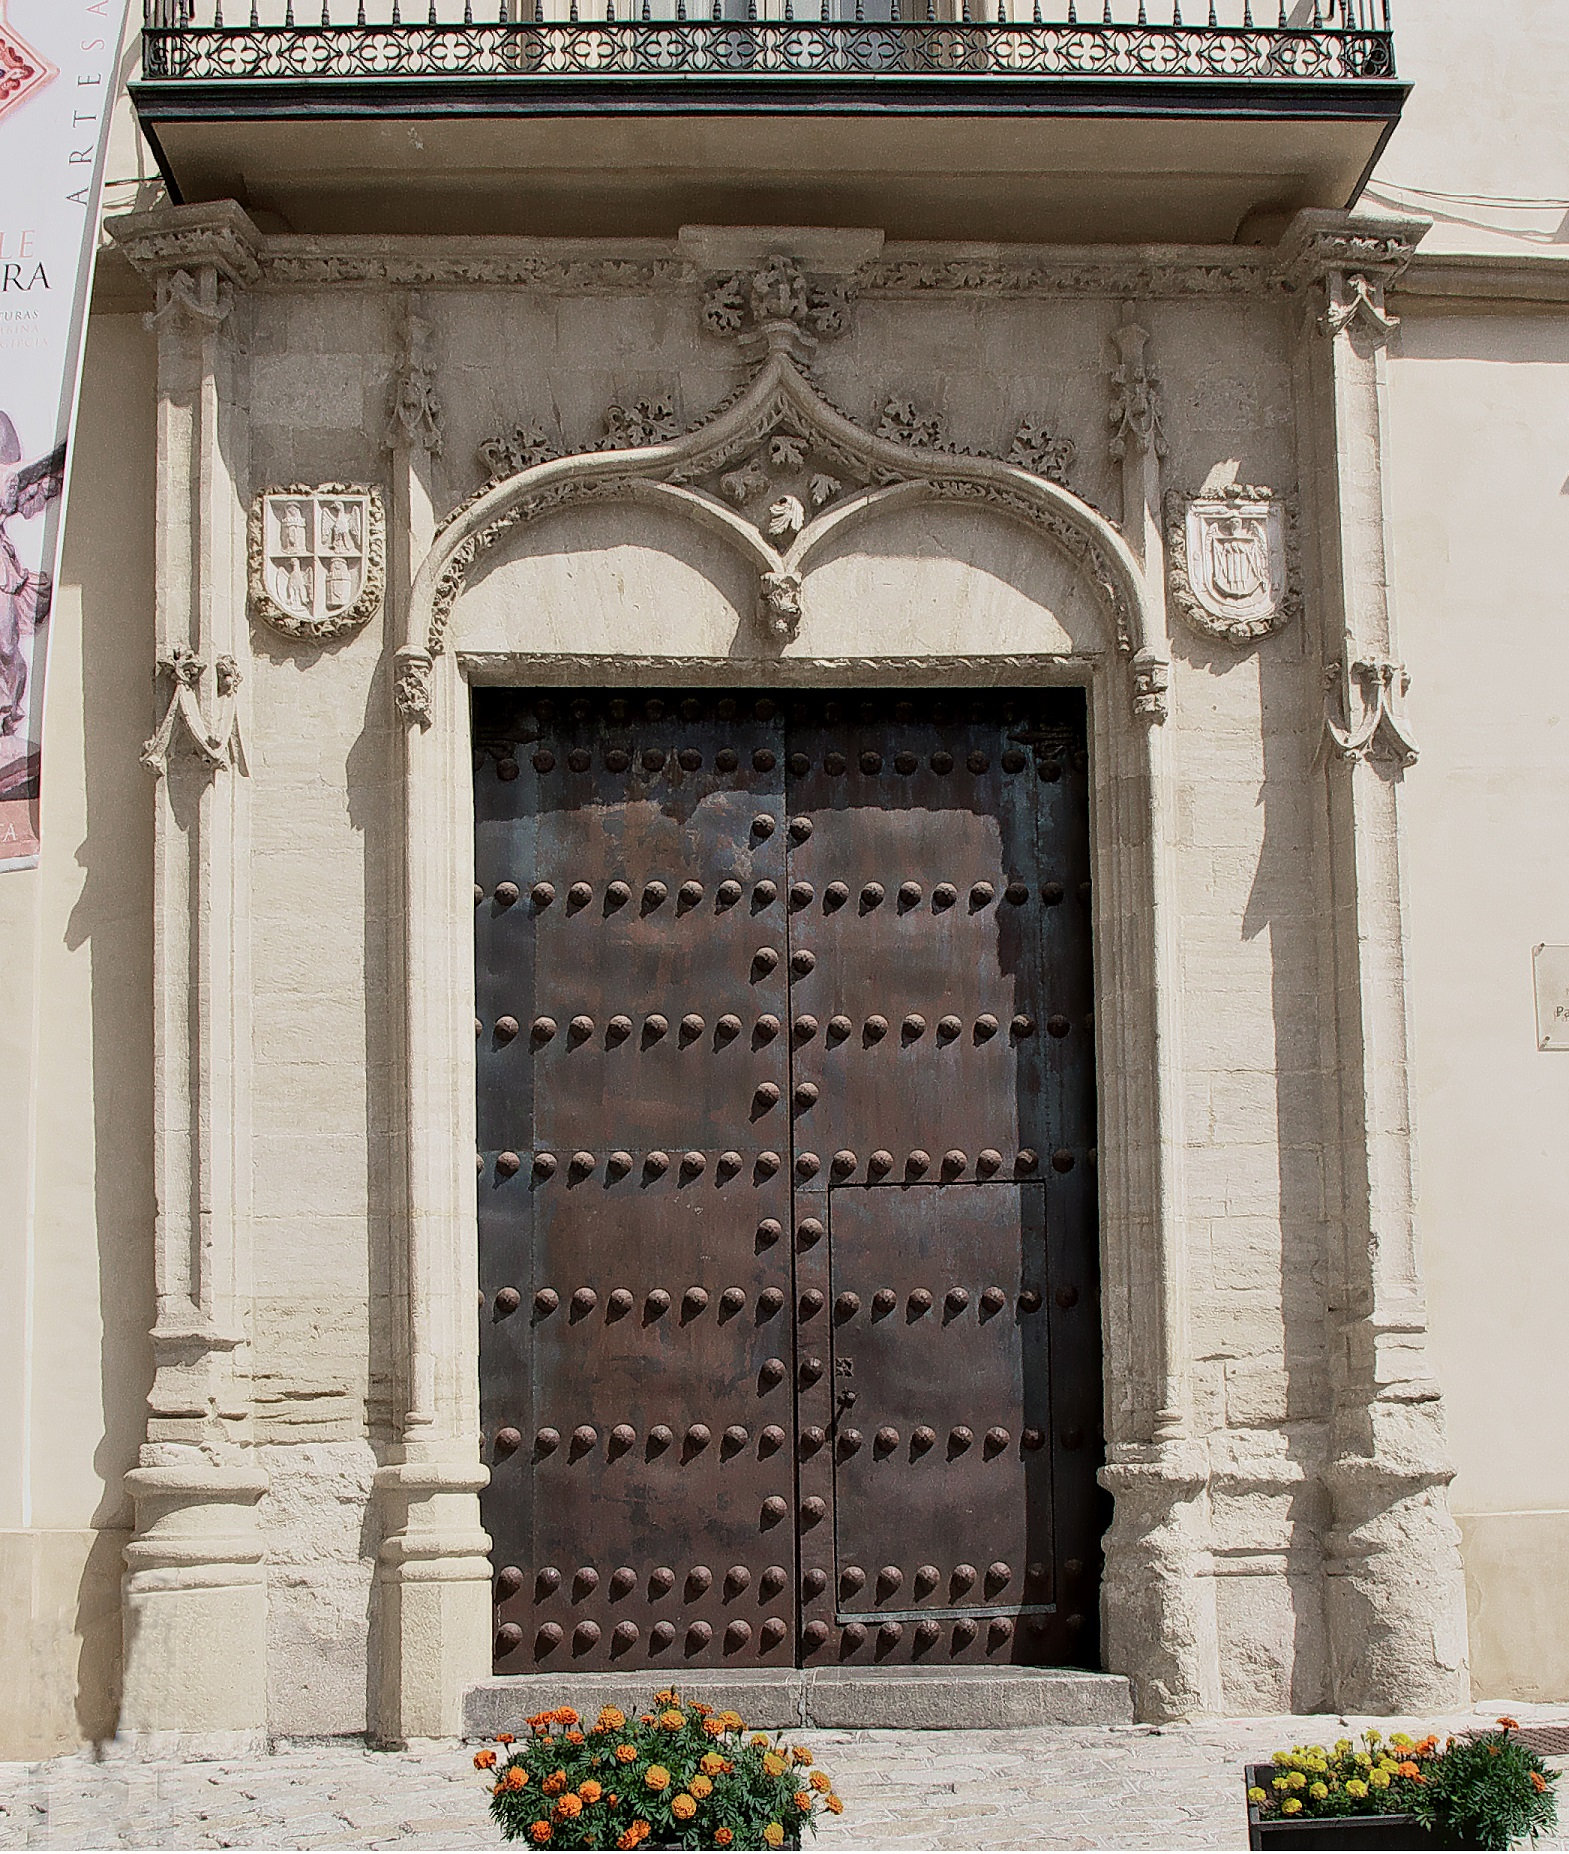arco-conopial: (405, 339, 1157, 641)
